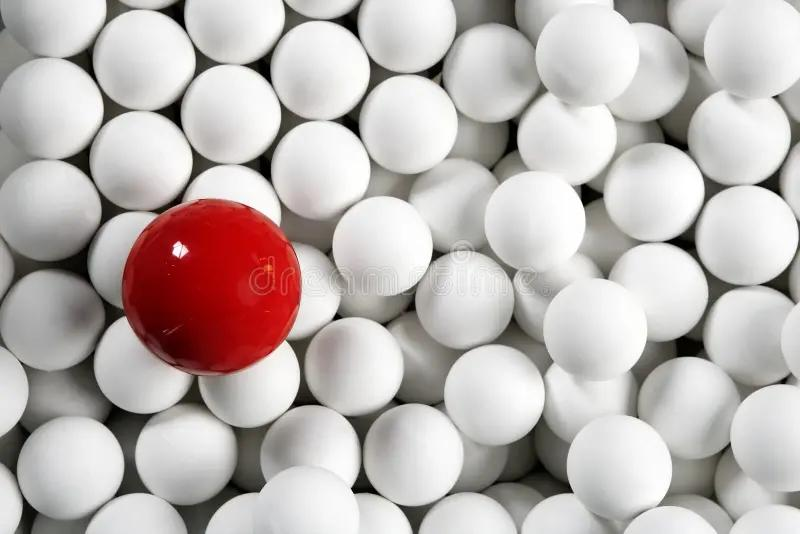Red_Ball: (98, 193, 315, 380)
